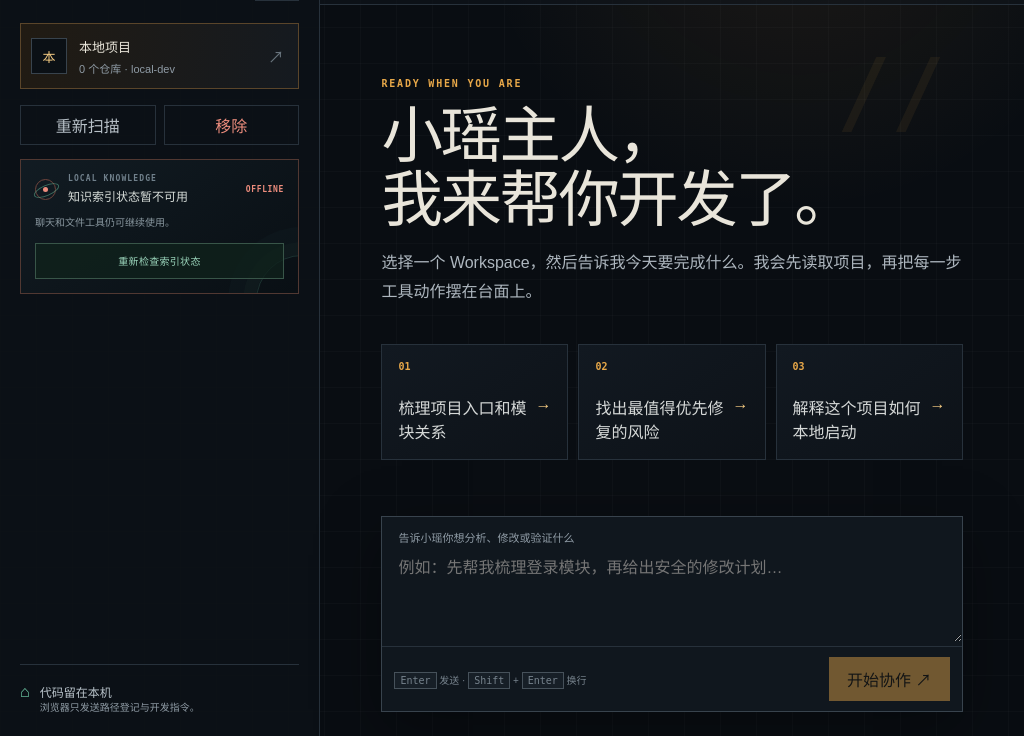
Test: 小瑶开发助手工作台 › fails closed for a normal resume SSE outcome with malicious identity
(page scrolled)
Expected: the button "本 本地项目 0 个仓库 · local-dev ↗" is shown, [20,23,299,89]
In the text box labelled "告诉小瑶你想分析、修改或验证什么": (672, 594) [382,545,962,642], type "恶意 SSE outcome"
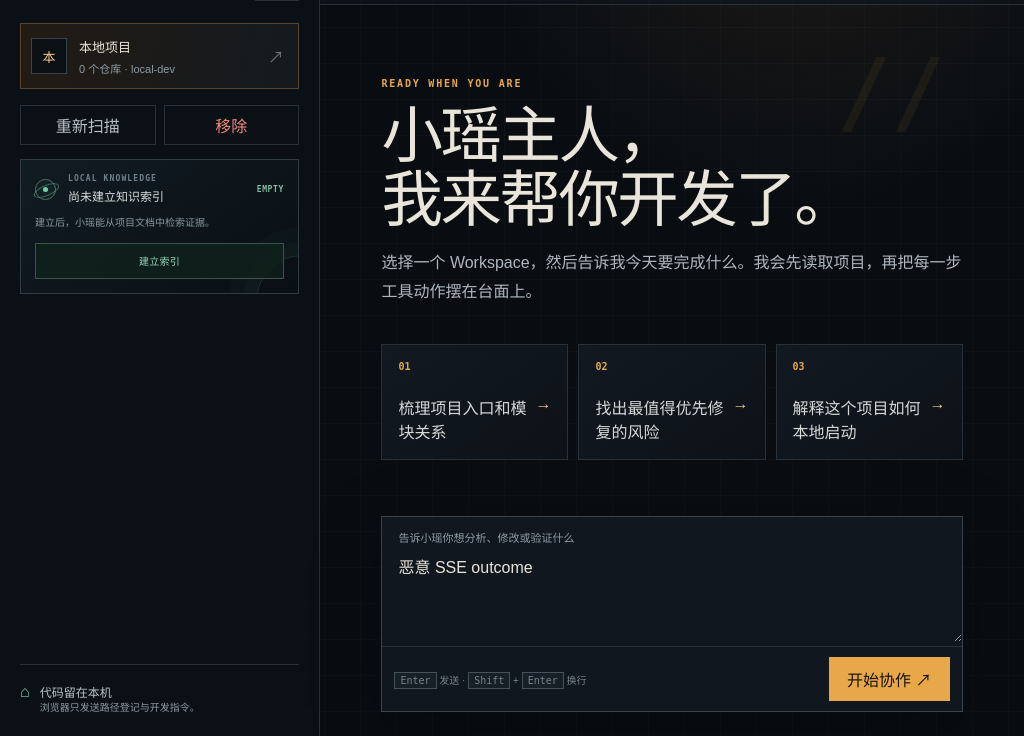
Click the button "开始协作 ↗": (889, 679) [829,657,950,701]
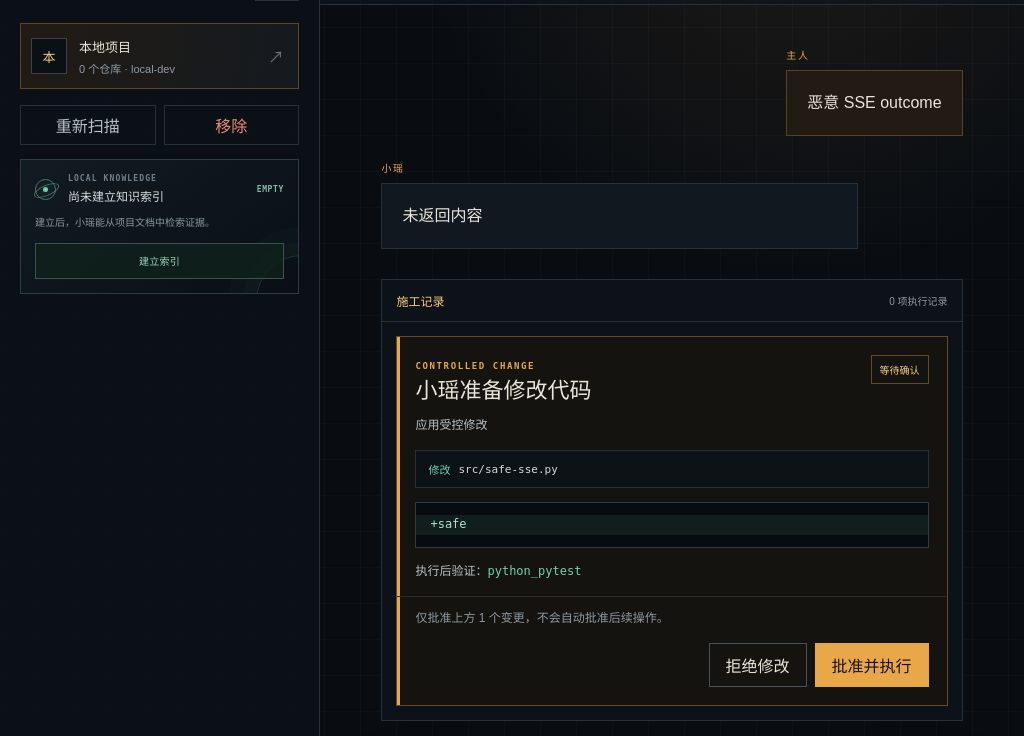
Click the button "批准并执行": (872, 665) [814,643,928,687]
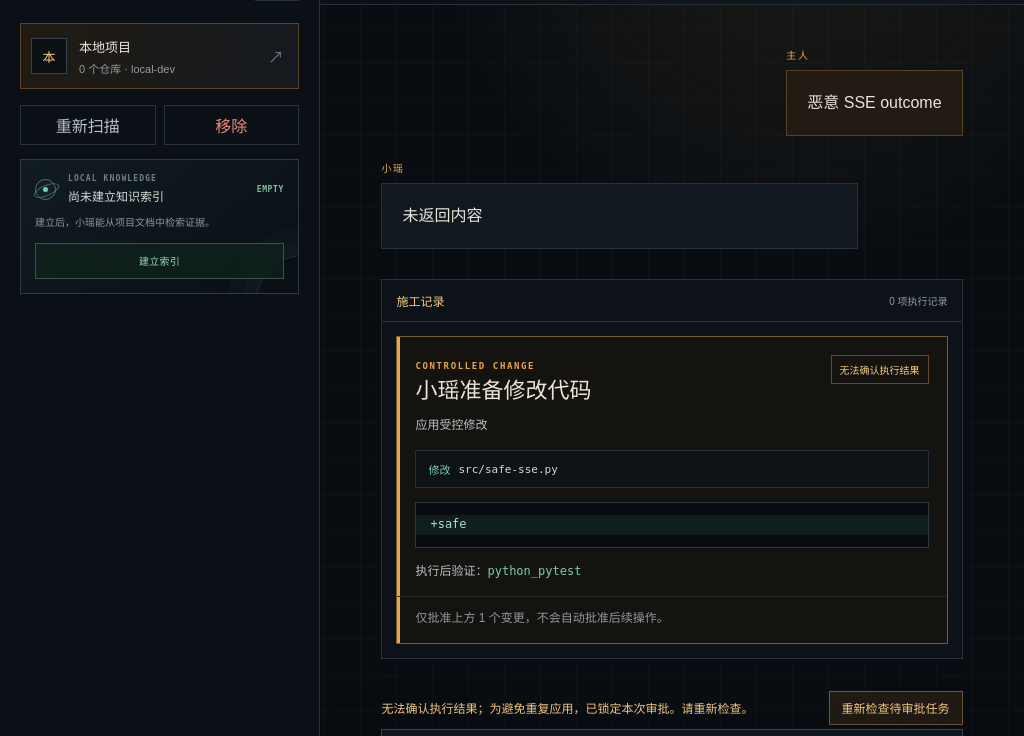
Now the text "无法确认执行结果" is shown, box [831,355,929,384]
Now the button "批准并执行" is gone
